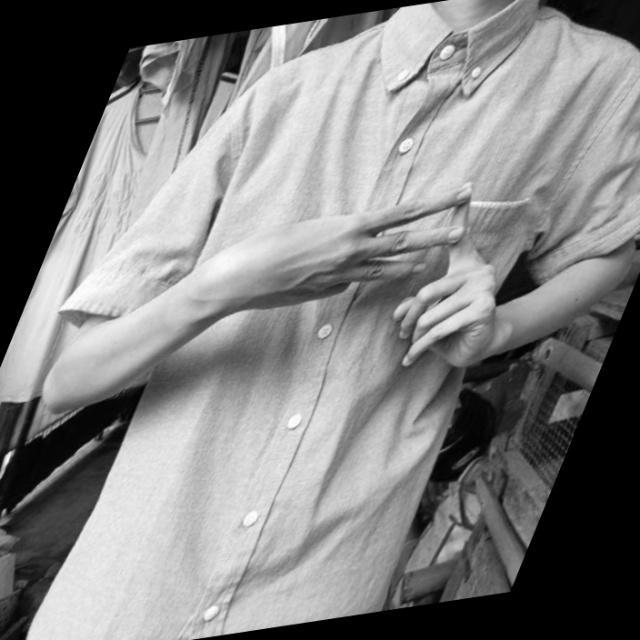B: (302, 169, 488, 367)
